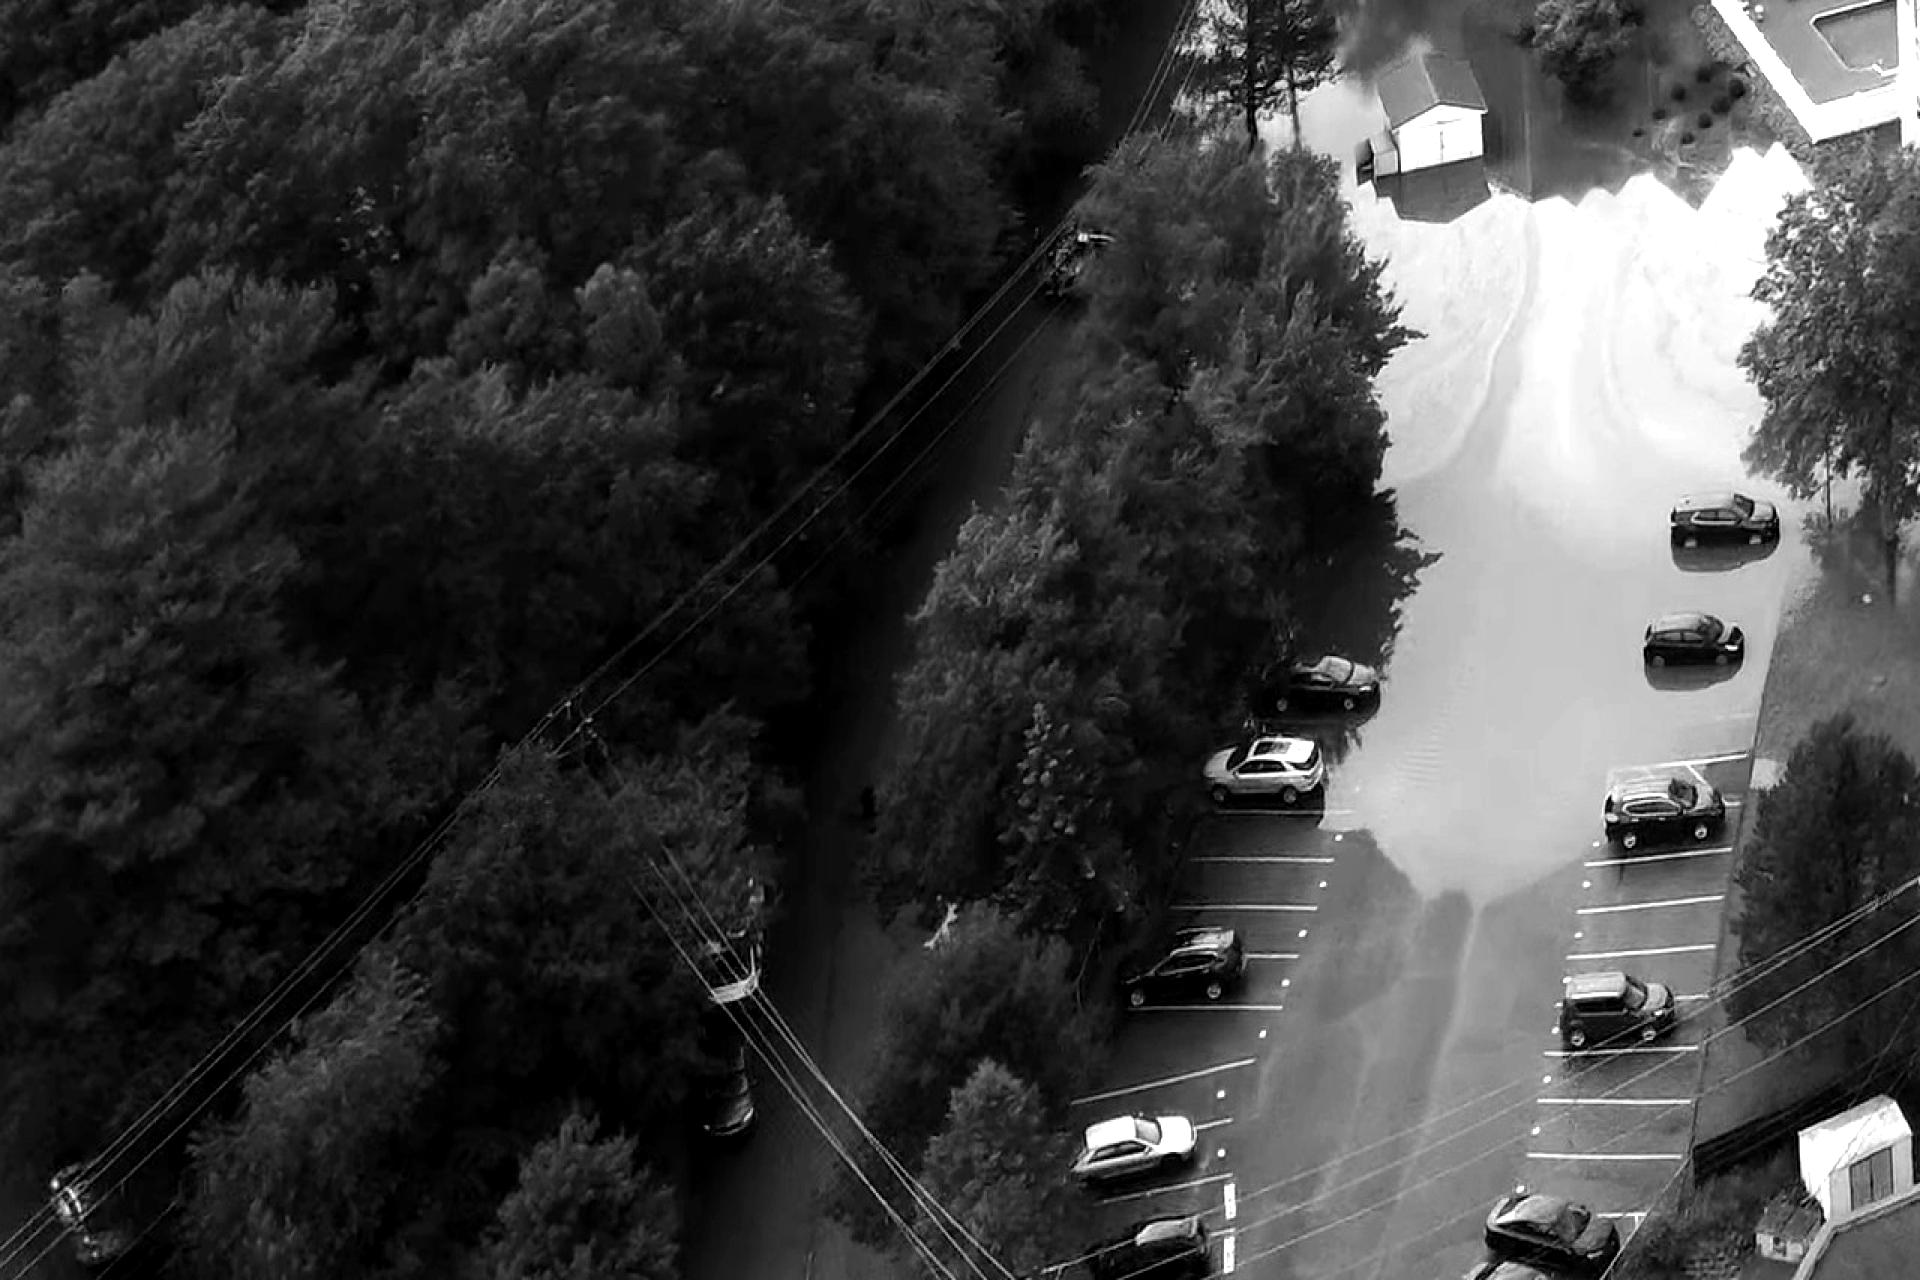House: (1804, 560, 1920, 1280), (1881, 0, 1920, 658)
Vehicle: (1480, 1184, 1624, 1280), (1123, 923, 1245, 1008), (1078, 1207, 1214, 1280), (1197, 733, 1327, 809), (1558, 968, 1674, 1050), (1600, 773, 1728, 847), (1070, 1109, 1200, 1179), (1256, 648, 1382, 719), (1668, 491, 1782, 552), (1642, 610, 1745, 669)
